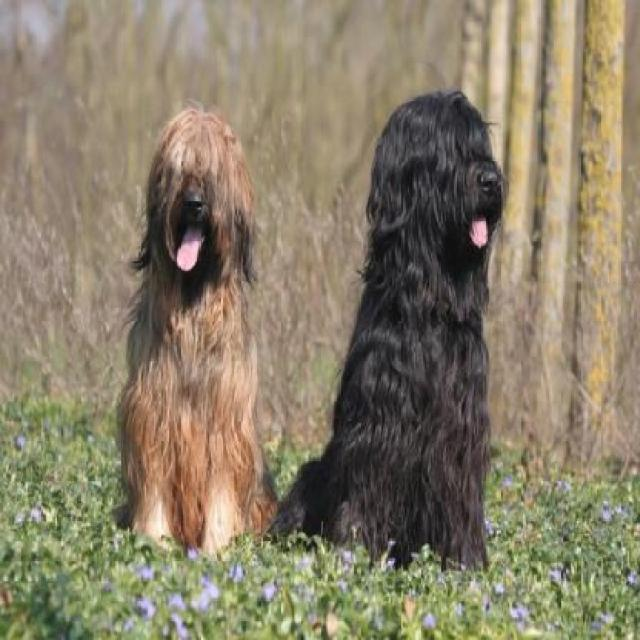animals: (313, 52, 536, 617), (102, 76, 280, 575)
